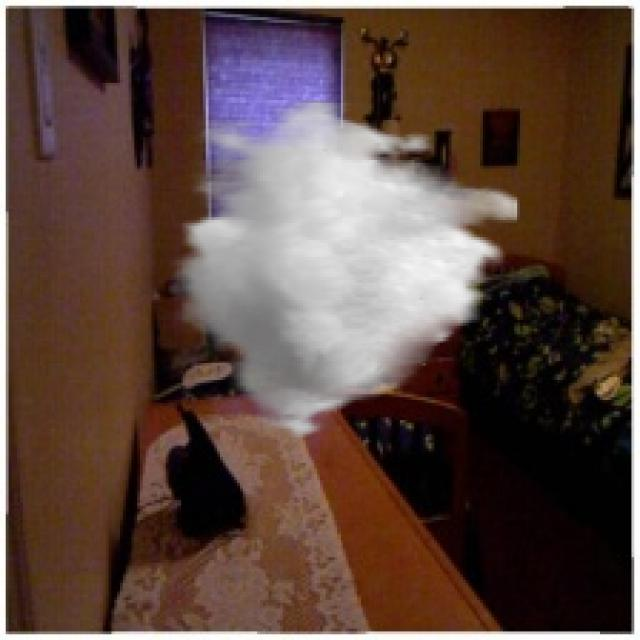smoke: (169, 100, 520, 446)
